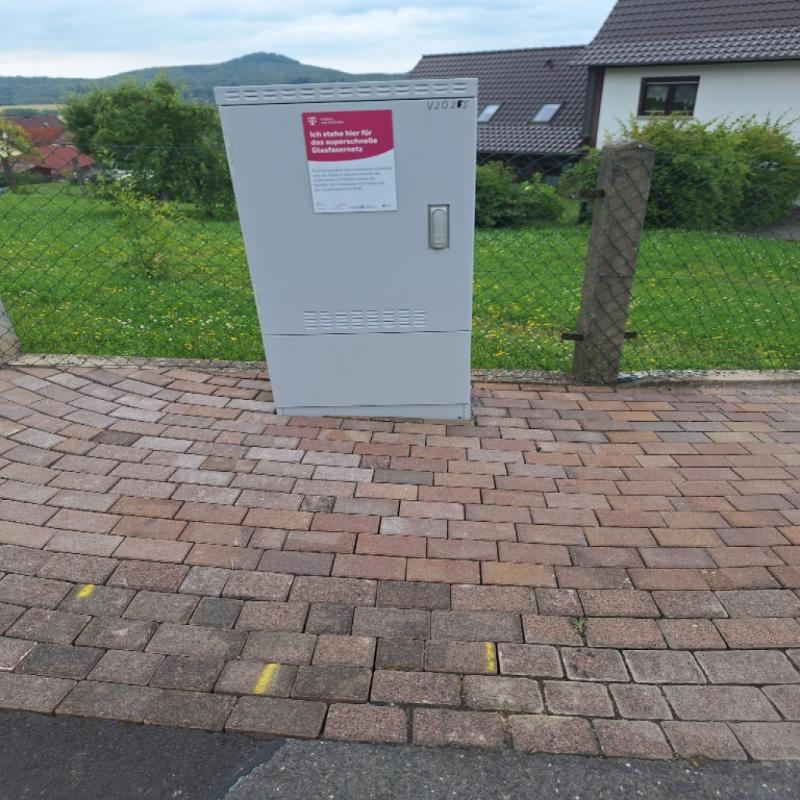NT-Gehause: (209, 85, 486, 422)
Steaker: (302, 111, 398, 215)
